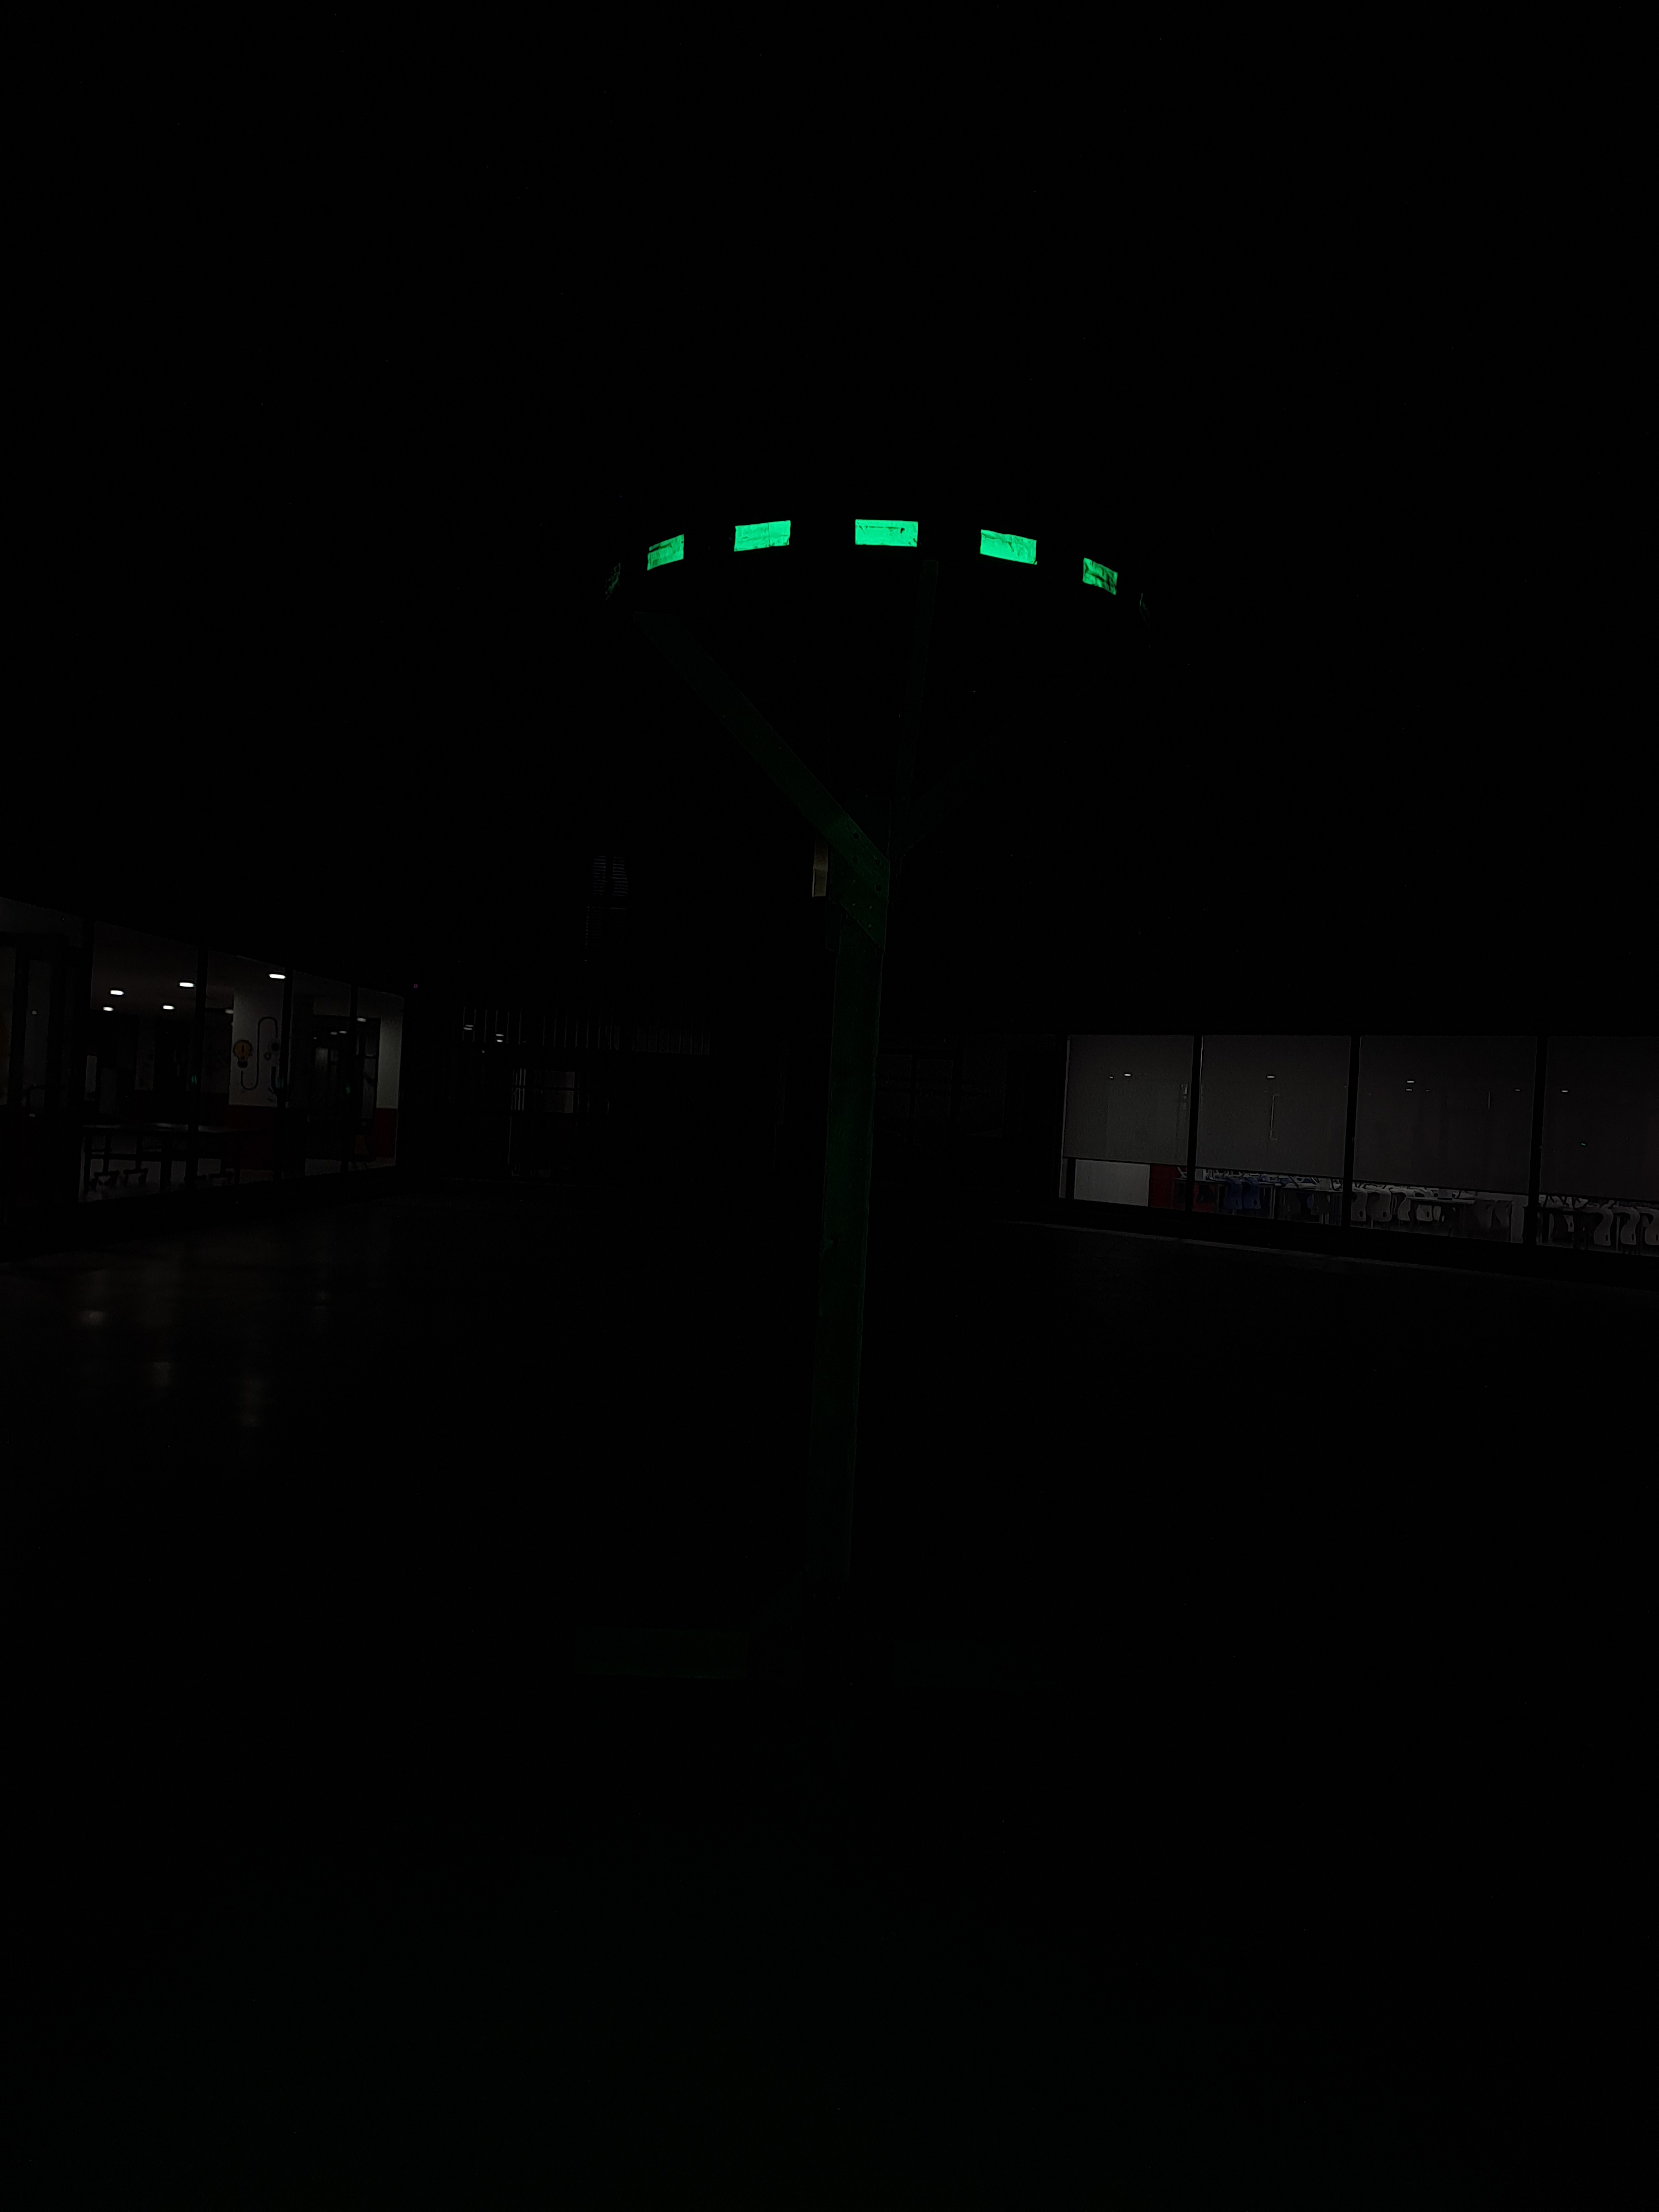hoop: (640, 505, 1124, 615)
